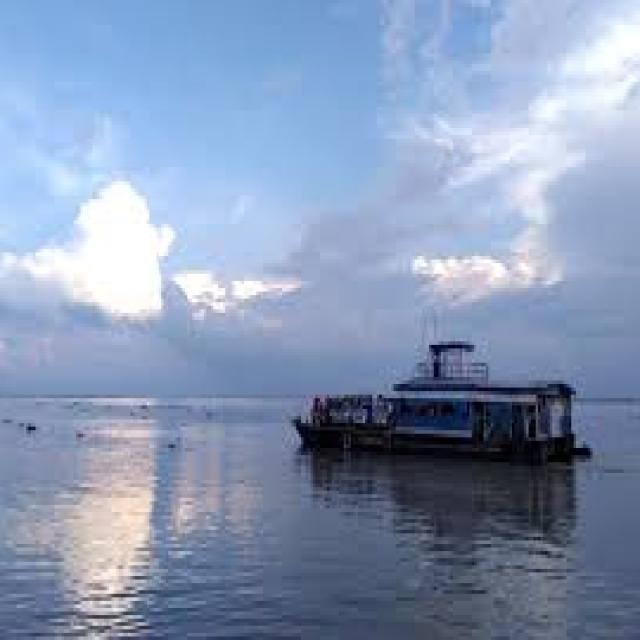fishing boat: (287, 342, 590, 459)
